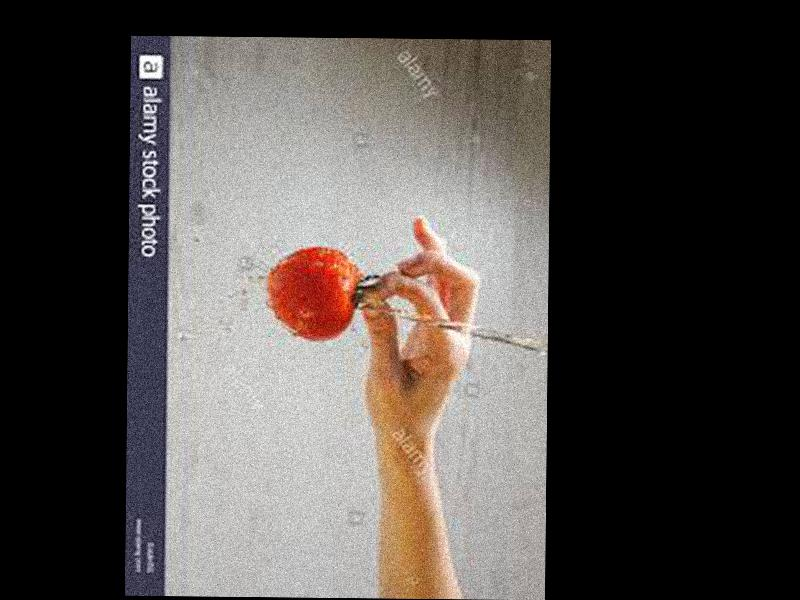Tomato: (265, 249, 358, 344)
